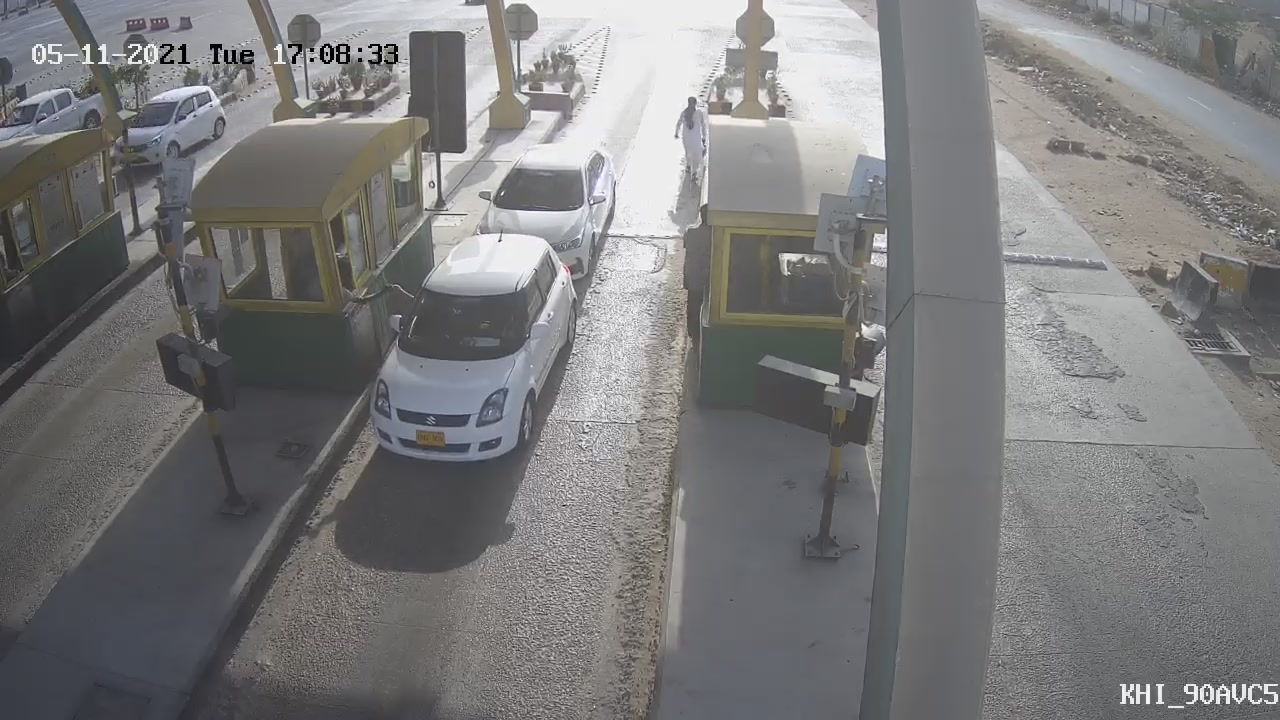F1: (340, 218, 600, 490)
